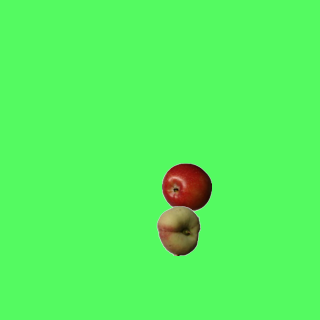Apple Braeburn: (161, 162, 211, 212)
Peach Flat: (153, 205, 203, 255)
